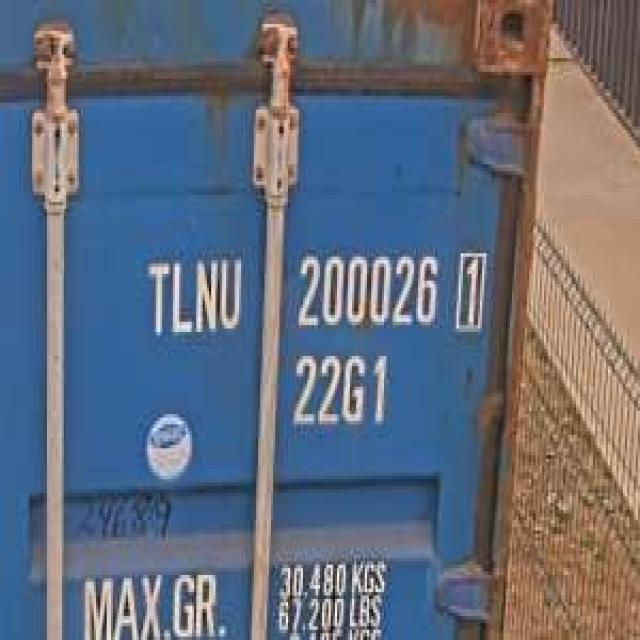dv: (450, 243, 489, 335)
owner: (139, 246, 245, 346)
serial: (292, 243, 442, 335)
size: (288, 342, 390, 435)
